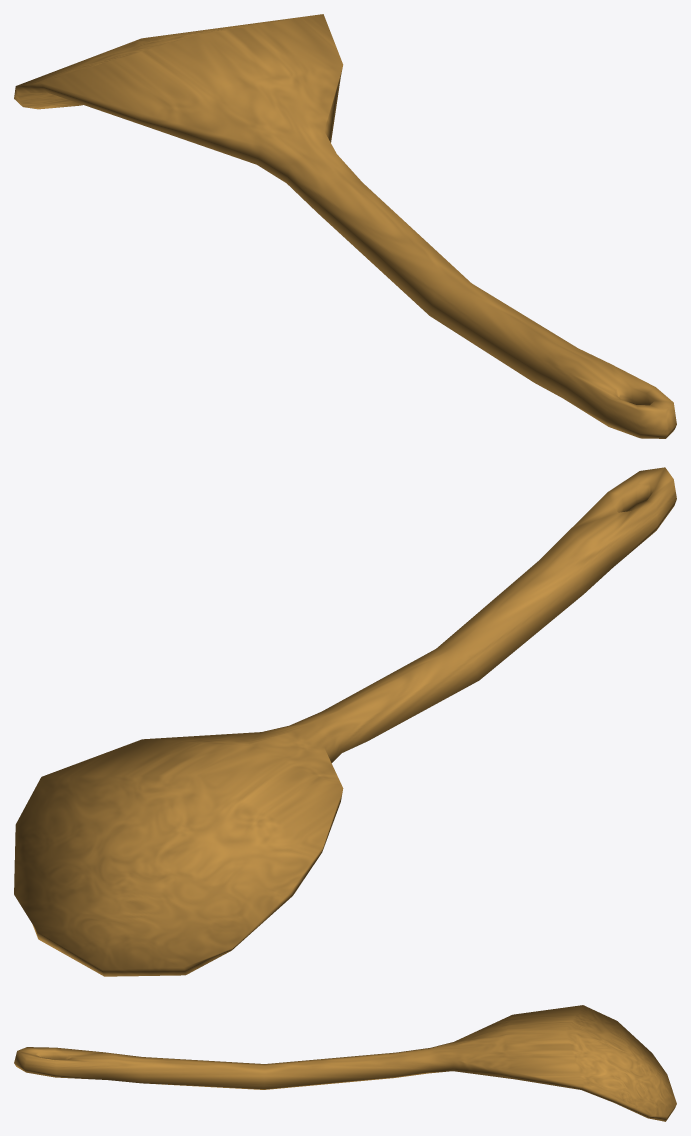
Rendered from ustensils4.glb.
The picture shows the model from 3 angles, top to bottom: view 1: azimuth 30°, elevation 25°; view 2: azimuth 150°, elevation 25°; view 3: azimuth 270°, elevation 25°; orthographic projection. The views are drawn at different scales.
Parts seen in each view (by area): view 1: ustensils4; view 2: ustensils4; view 3: ustensils4.
Boxes of the visible parts, x1,y1,x2,y2 form: ustensils4: (14, 14, 676, 438); ustensils4: (14, 467, 676, 976); ustensils4: (14, 1005, 676, 1121).
Bounding box in the file's own units: 0.7406 × 0.334 × 2.57.
1 material, 1 textured.
